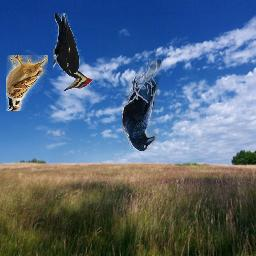Crow: (122, 59, 162, 152)
Sparrow: (6, 55, 48, 111)
Woodpecker: (54, 13, 95, 91)
